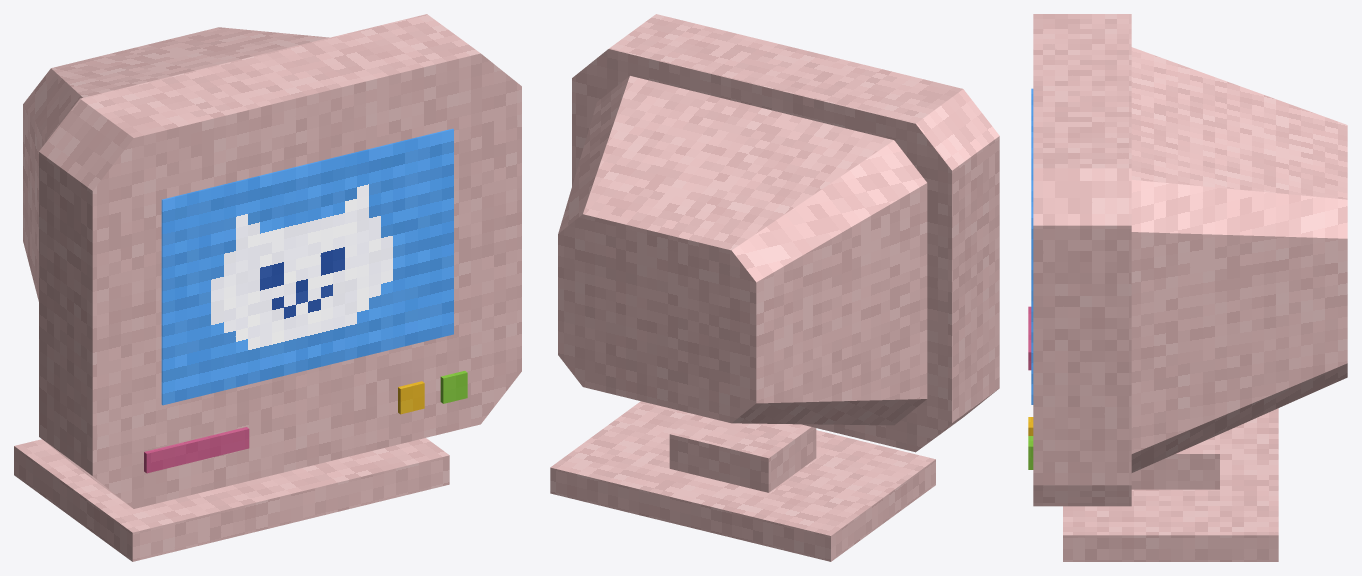
File: crt.glb
3 views of the same model, side by side, from view 1: azimuth 30°, elevation 25°; view 2: azimuth 150°, elevation 25°; view 3: azimuth 270°, elevation 25° (orthographic). The views are drawn at different scales.
Visible parts, largest first — view 1: Shell, Screen, Base, ButtonStrip, ButtonB, ButtonA; view 2: Shell, Base; view 3: Shell, Base, Screen.
Boxes of the visible parts, x1,y1,x2,y2 form: Shell: (23, 14, 521, 508); Screen: (161, 128, 453, 405); Base: (14, 438, 449, 561); ButtonStrip: (144, 427, 249, 473); ButtonB: (440, 371, 467, 403); ButtonA: (398, 381, 424, 414); Shell: (558, 14, 999, 492); Base: (550, 401, 935, 561); Shell: (1033, 14, 1347, 506); Base: (1063, 408, 1278, 561); Screen: (1031, 88, 1033, 404).
Bounding box in the file's own units: 2.3 × 2.25 × 1.62.
Materials: 5 (5 with a texture image).
